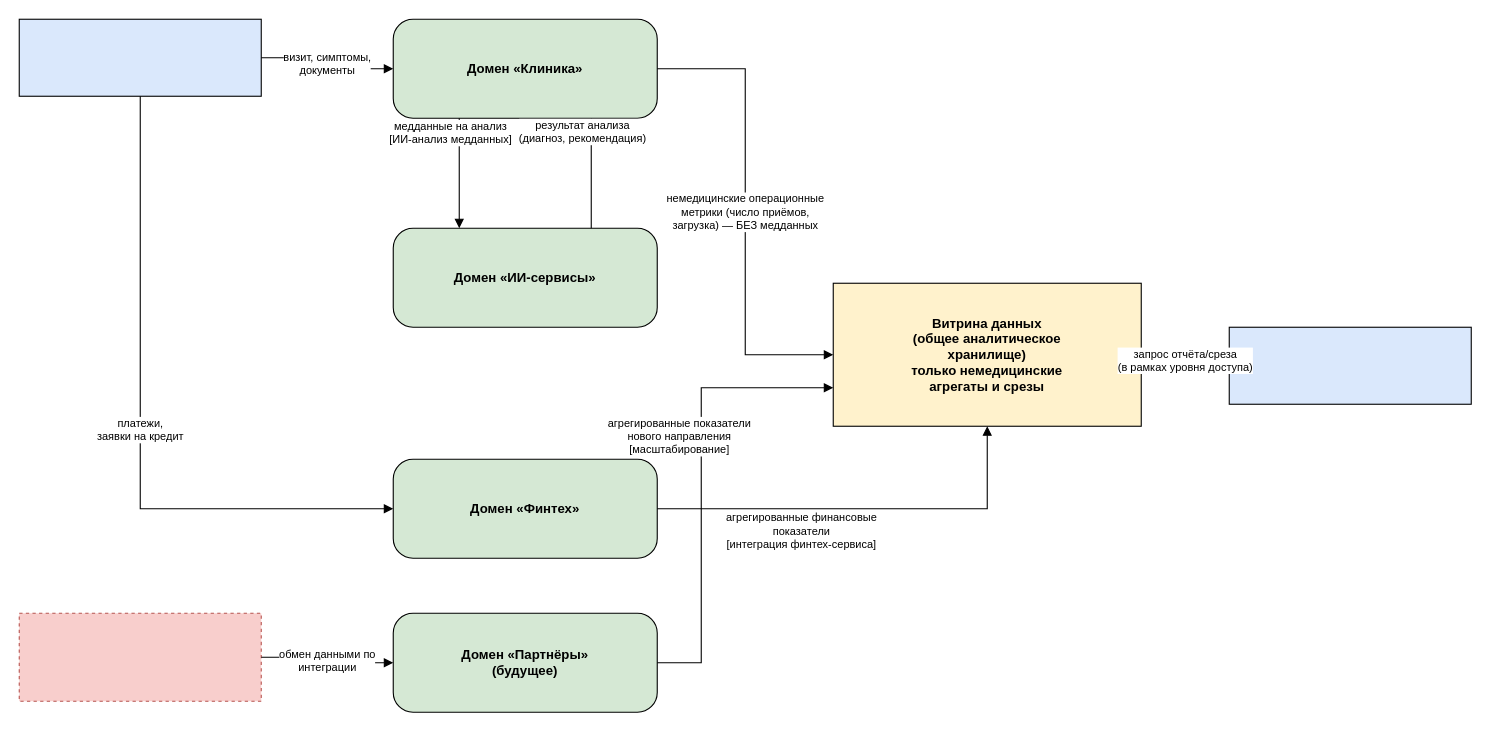
This 1491x732 diagram has some shape labels left out. Here are the shapes that lost their labels. From the top down, the centre of each, then its label:
At (139,57): "Пациент / Клиент".
At (1349,365): "Бизнес-пользователь".
At (139,656): "Партнёр (будущее) фарма / электроника".
